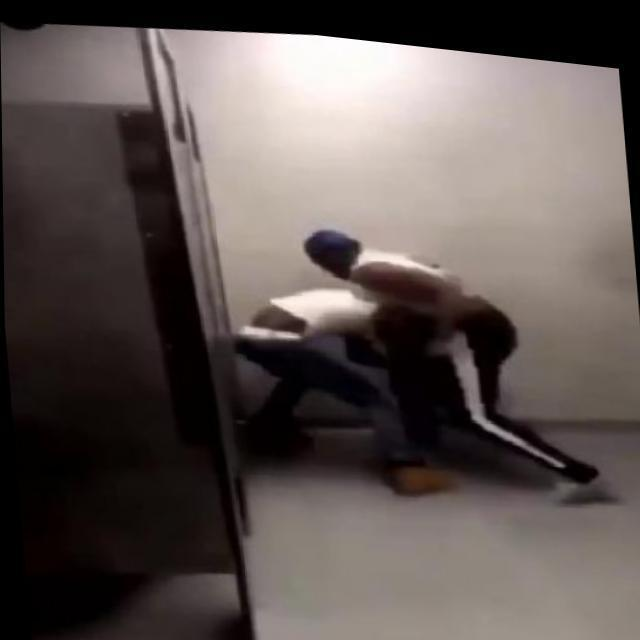fight: (230, 195, 609, 517)
